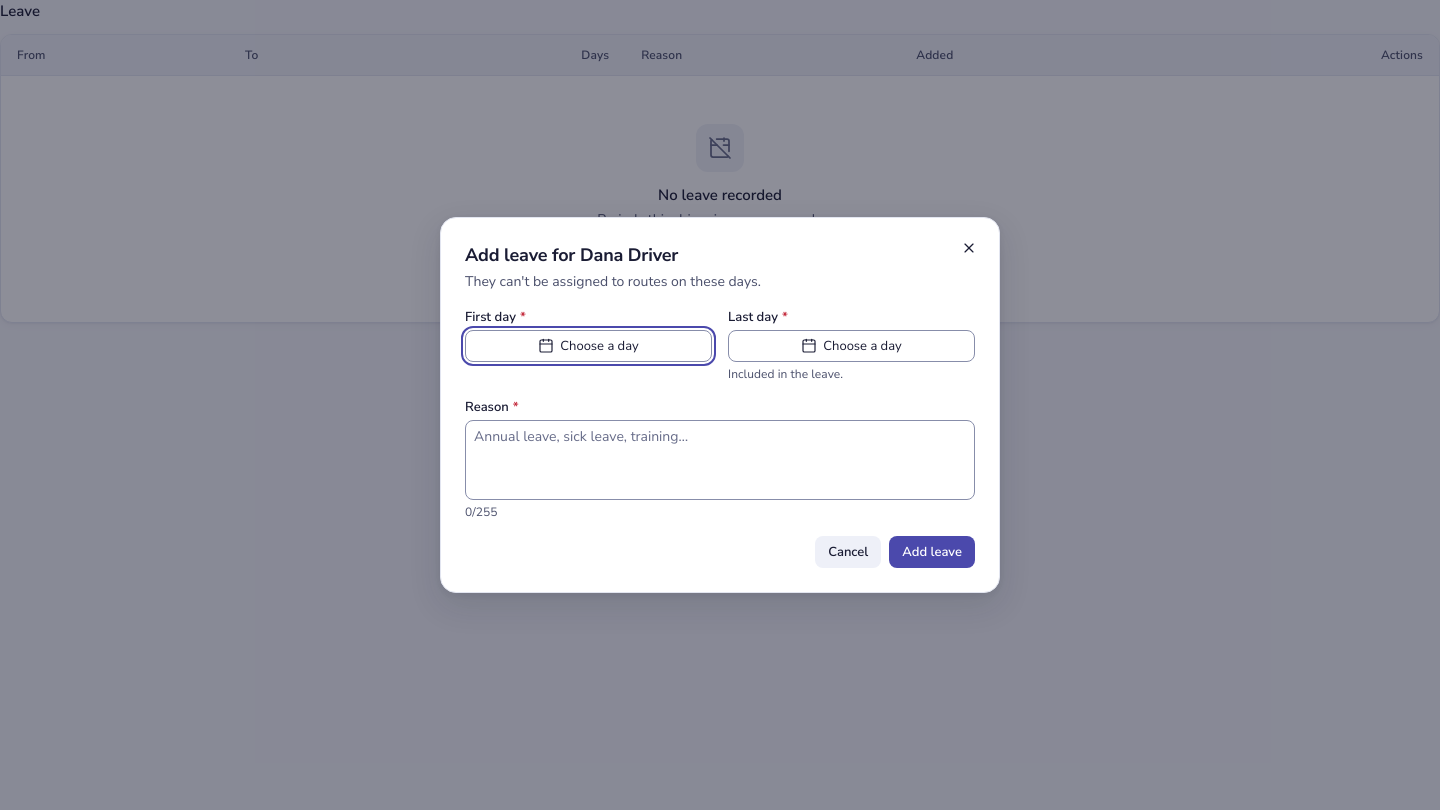
Test: DriverLeave management › adding leave › sends the days and reason with an idempotency key, counts the days, and confirms
Earlier steps of the test are not shown.
Expected: the dialog is shown, [440,217,1000,593]
Click the button with aria-label "First day (required):". click: (588, 346)
box: [465,330,712,362]
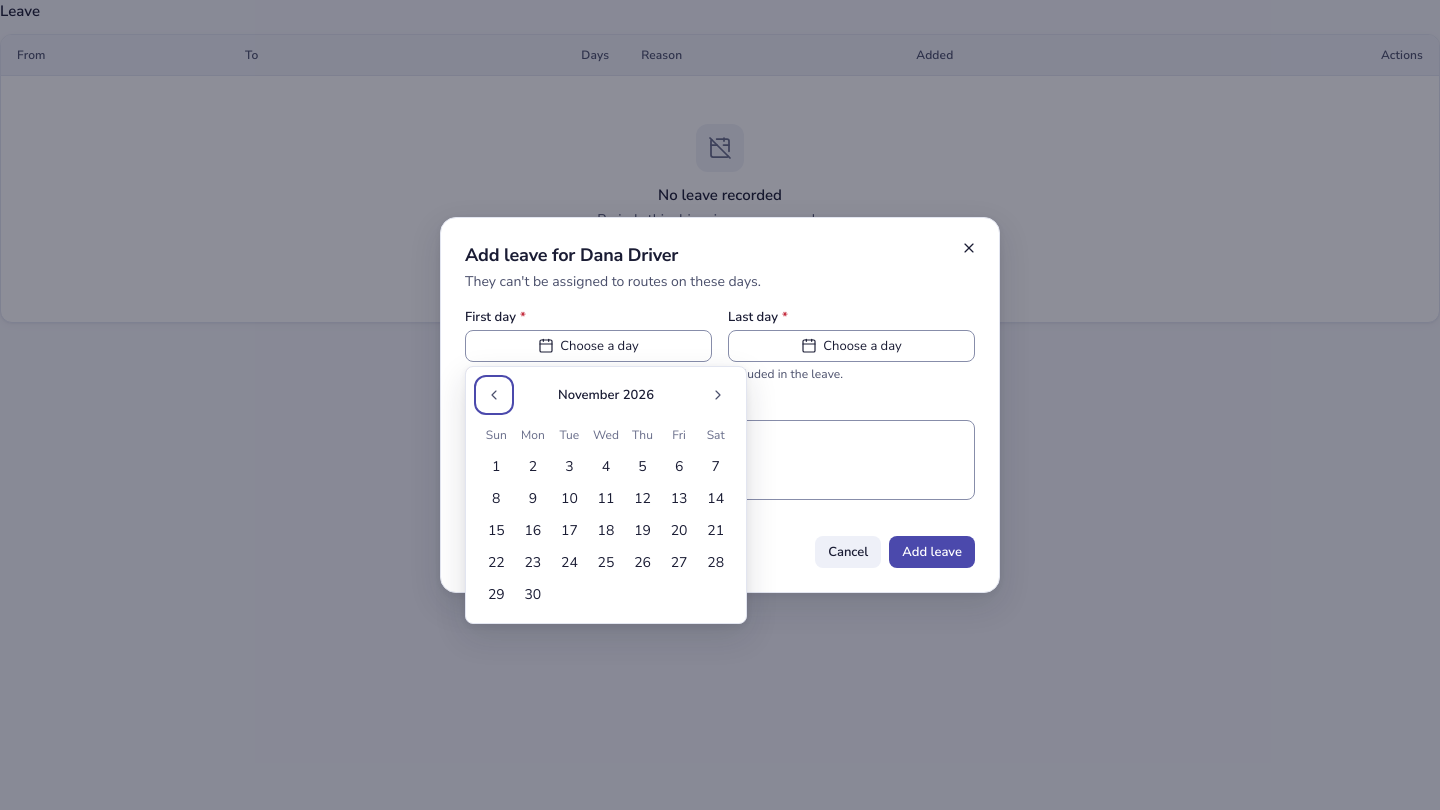
Click the button "10". click: (569, 499)
box: [553,483,585,515]
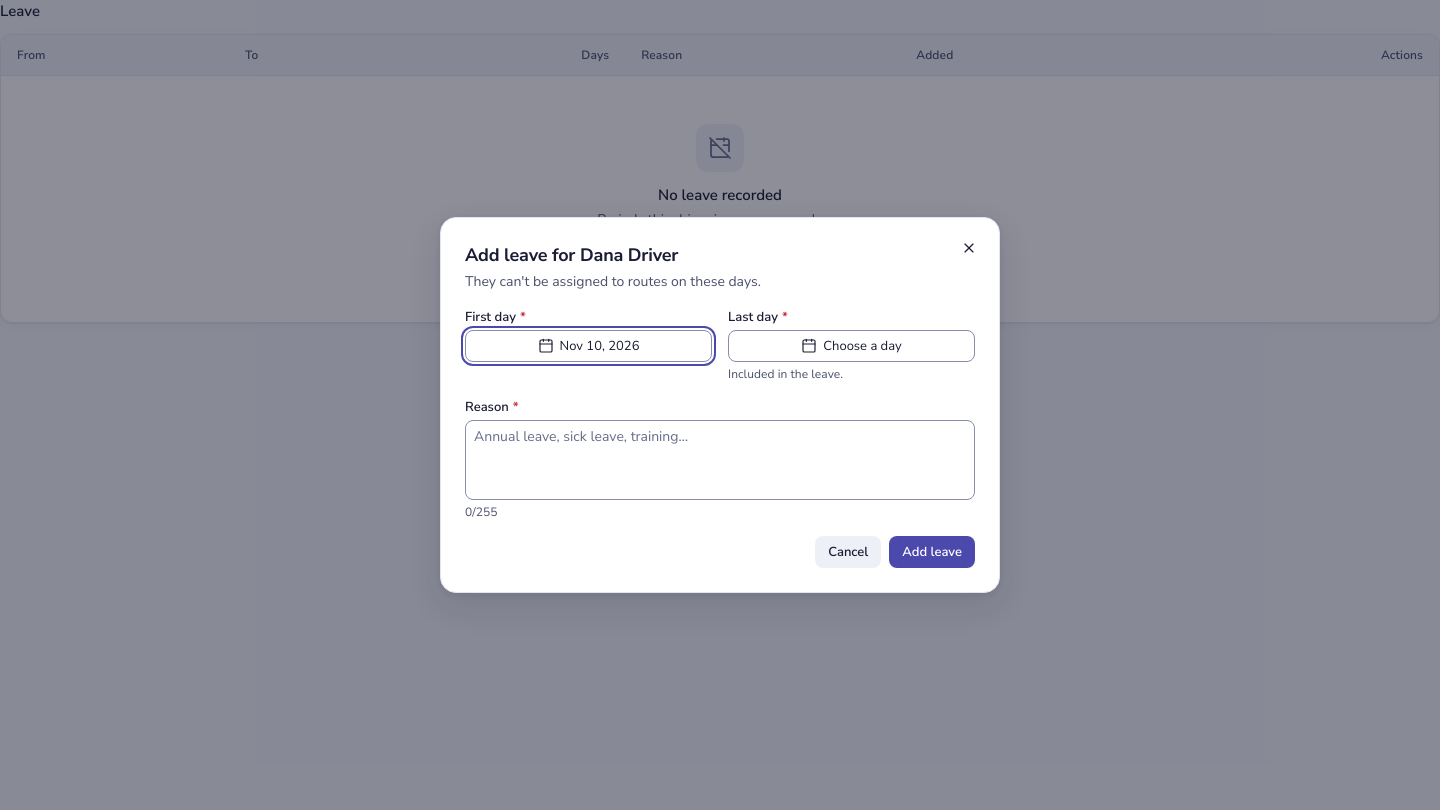
Click the button with aria-label "Last day (required):". click: (852, 346)
box: [728,330,975,362]
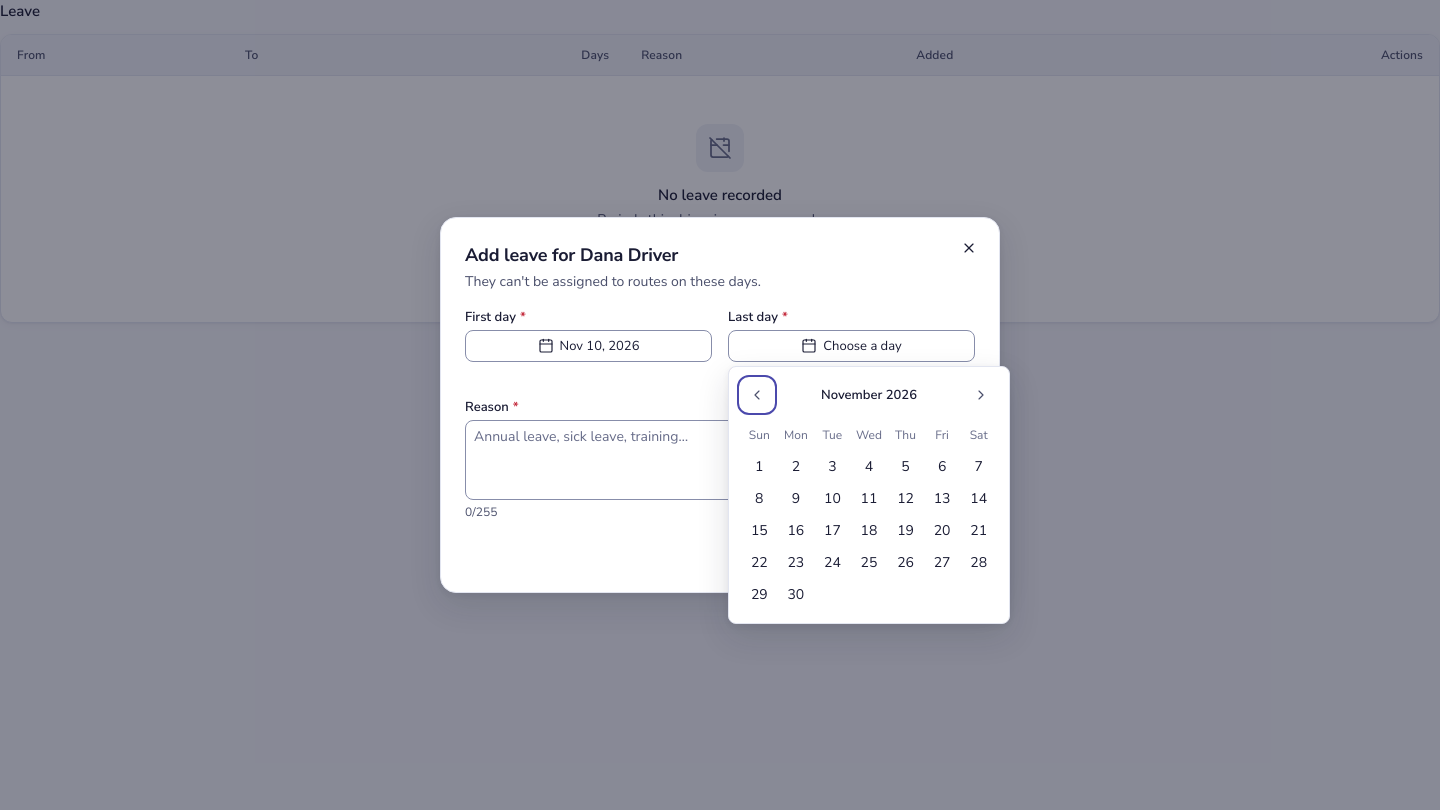
Click the button "14". click: (979, 499)
box: [963,483,995,515]
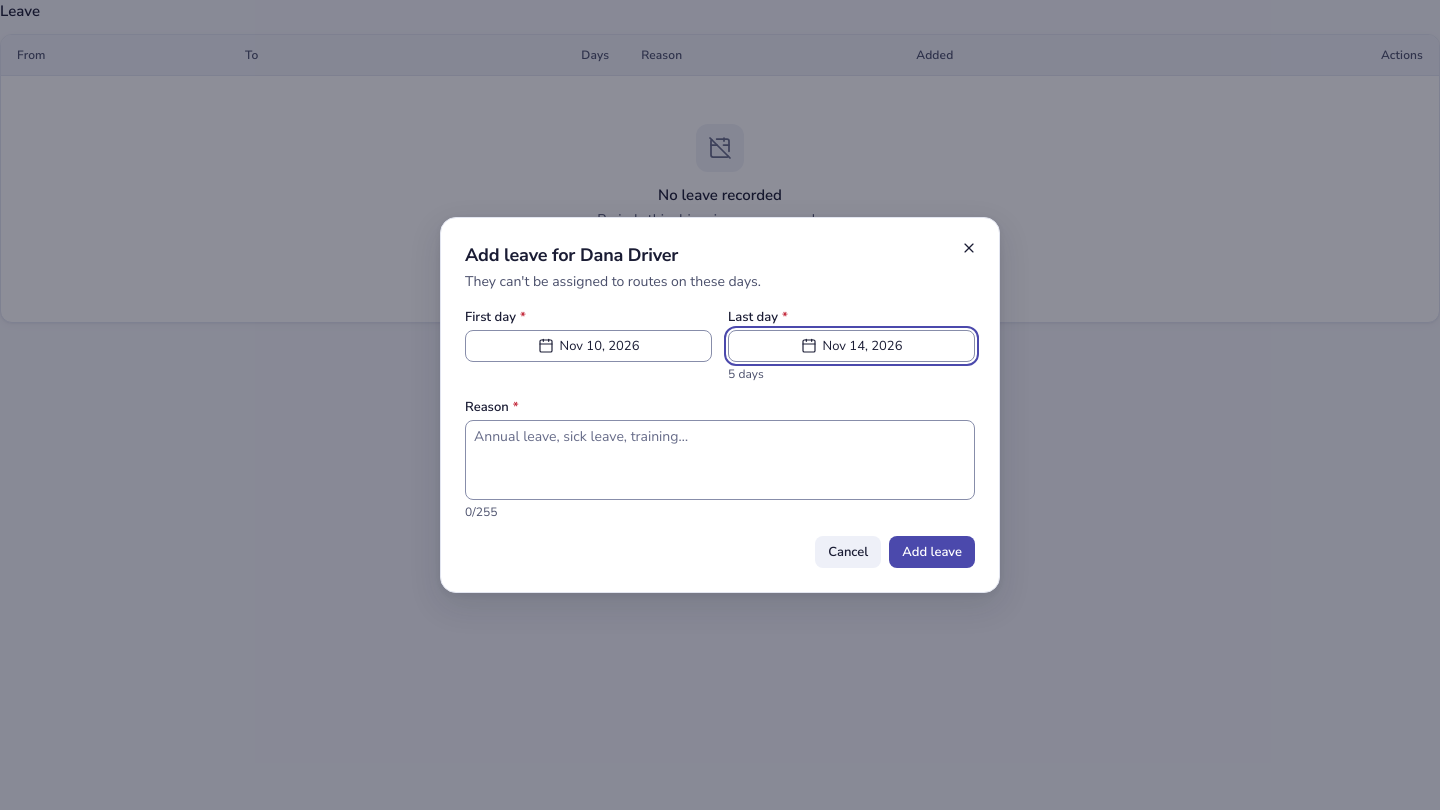
Expected: the text "5 days" is shown, [728,366,764,382]
Type " Annual leave " into the text box labelled "Reason*". click: (720, 460)
box: [465,420,975,500]
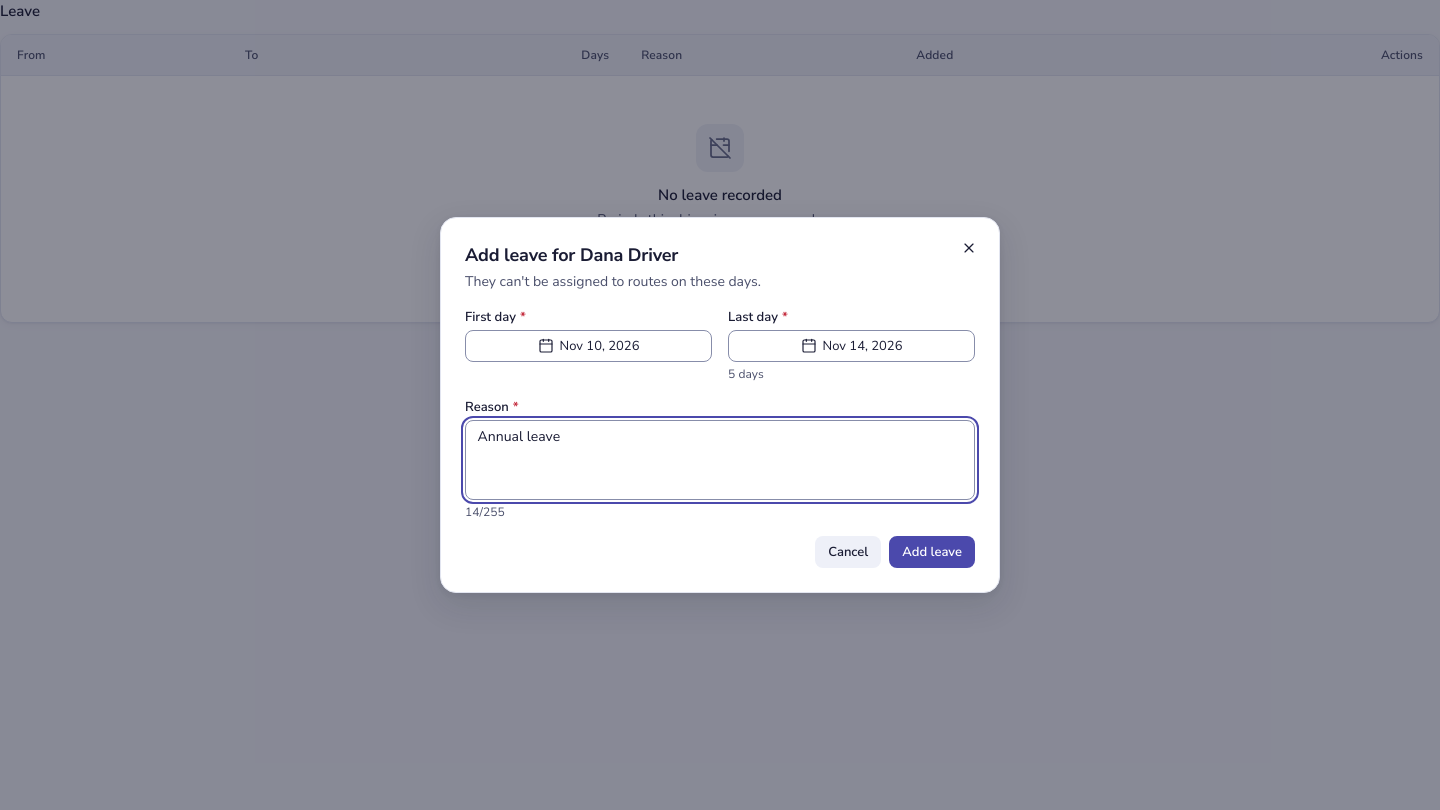
Click the button "Add leave". click: (932, 552)
box: [889,536,975,568]
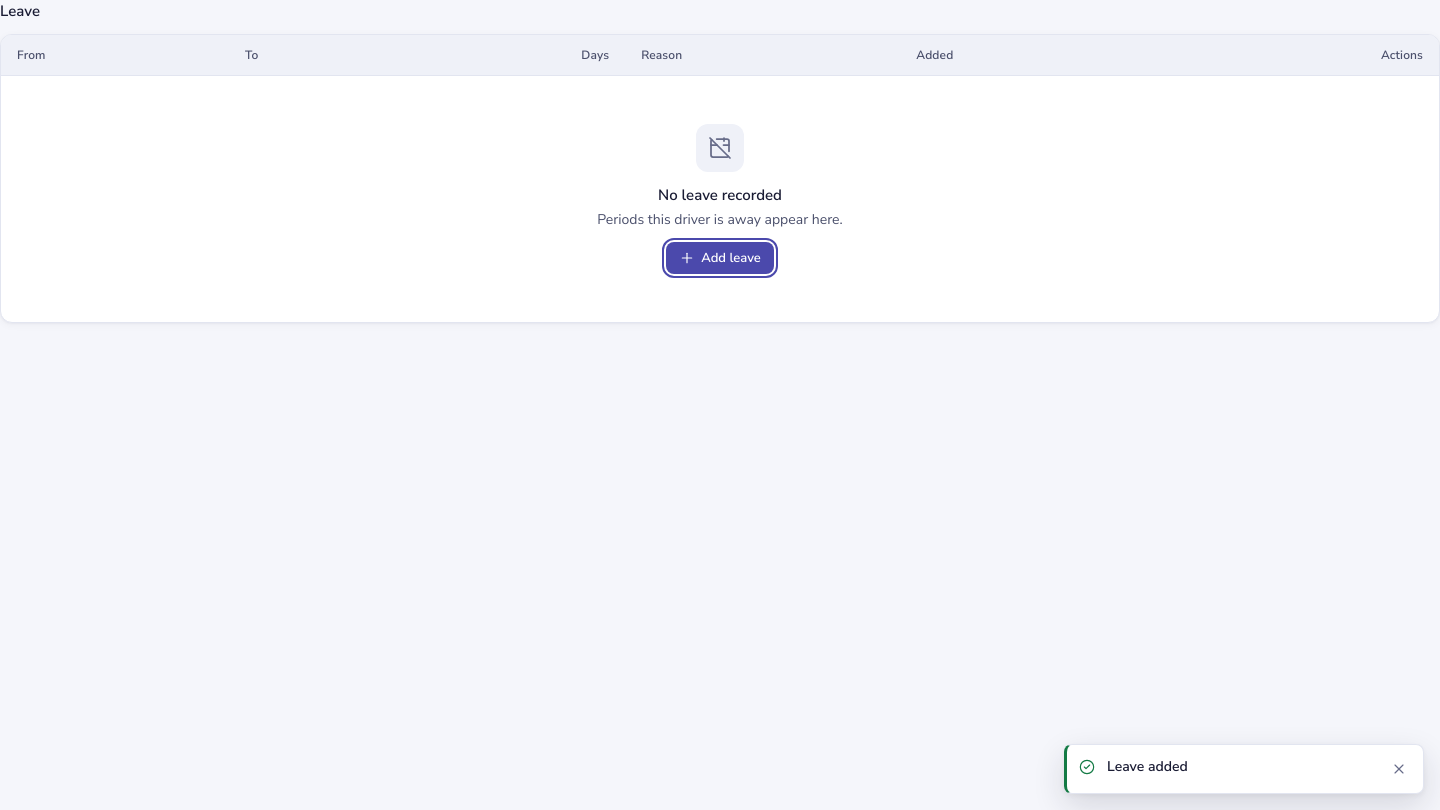
Expected: the text "Leave added" is shown, [1107,757,1188,776]
Expected: the dialog is gone
